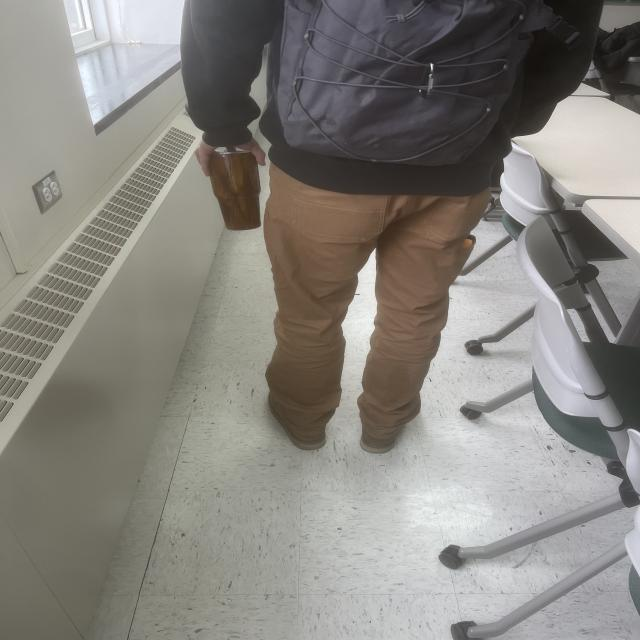Boots: (253, 385, 434, 458)
